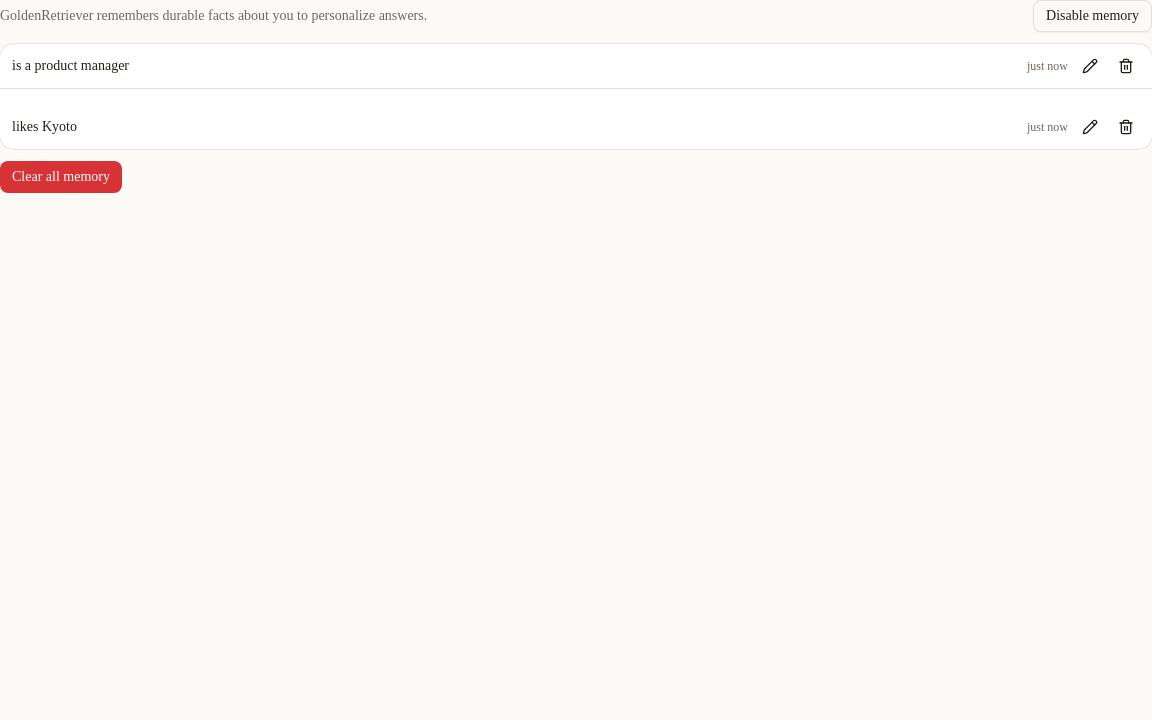
Test: MemorySettings › deletes a fact via its row control
This screenshot has width=1152, height=720.
Click the button named "Delete memory" in the row of "is a product manager" at point(1126, 66), box [1112,52,1140,80]
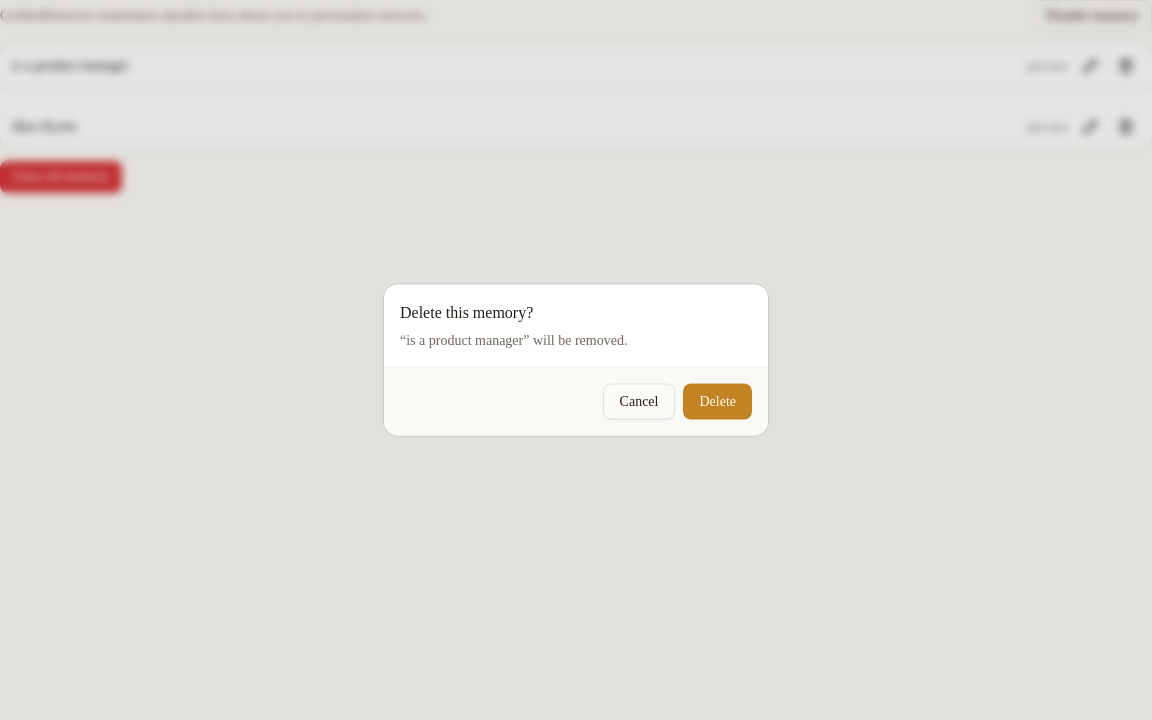
Click the button "Delete" at point(718, 402), box [684,384,752,420]
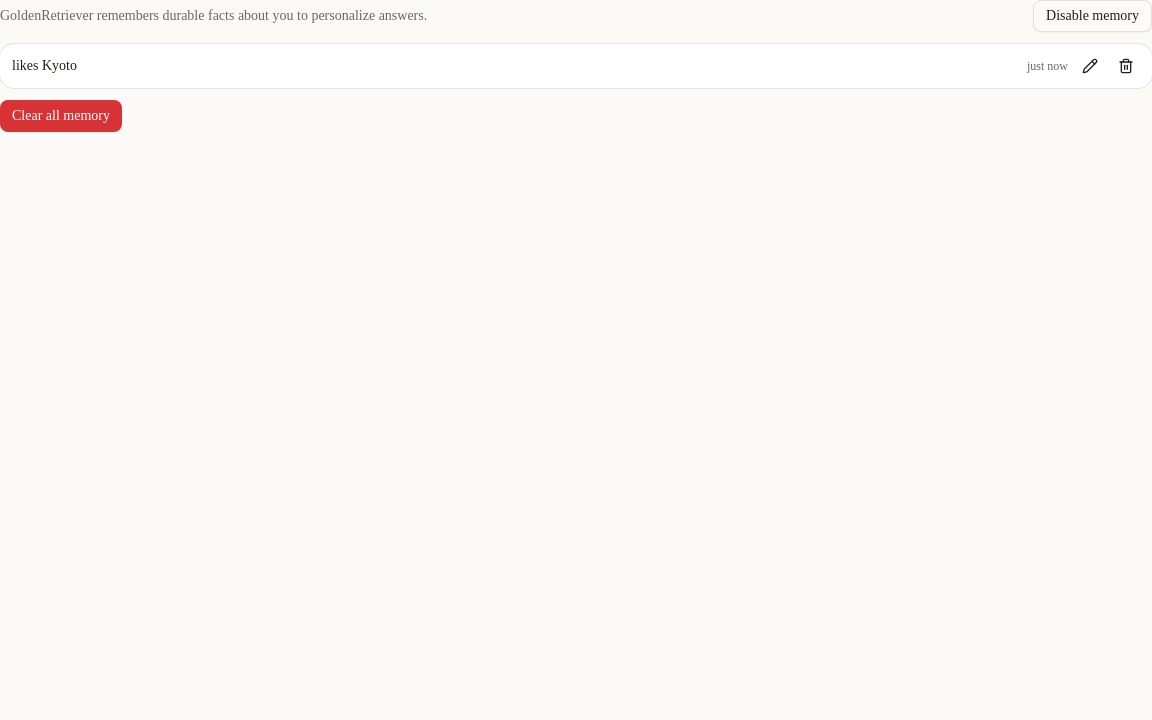
Expected: the text "is a product manager" is gone
